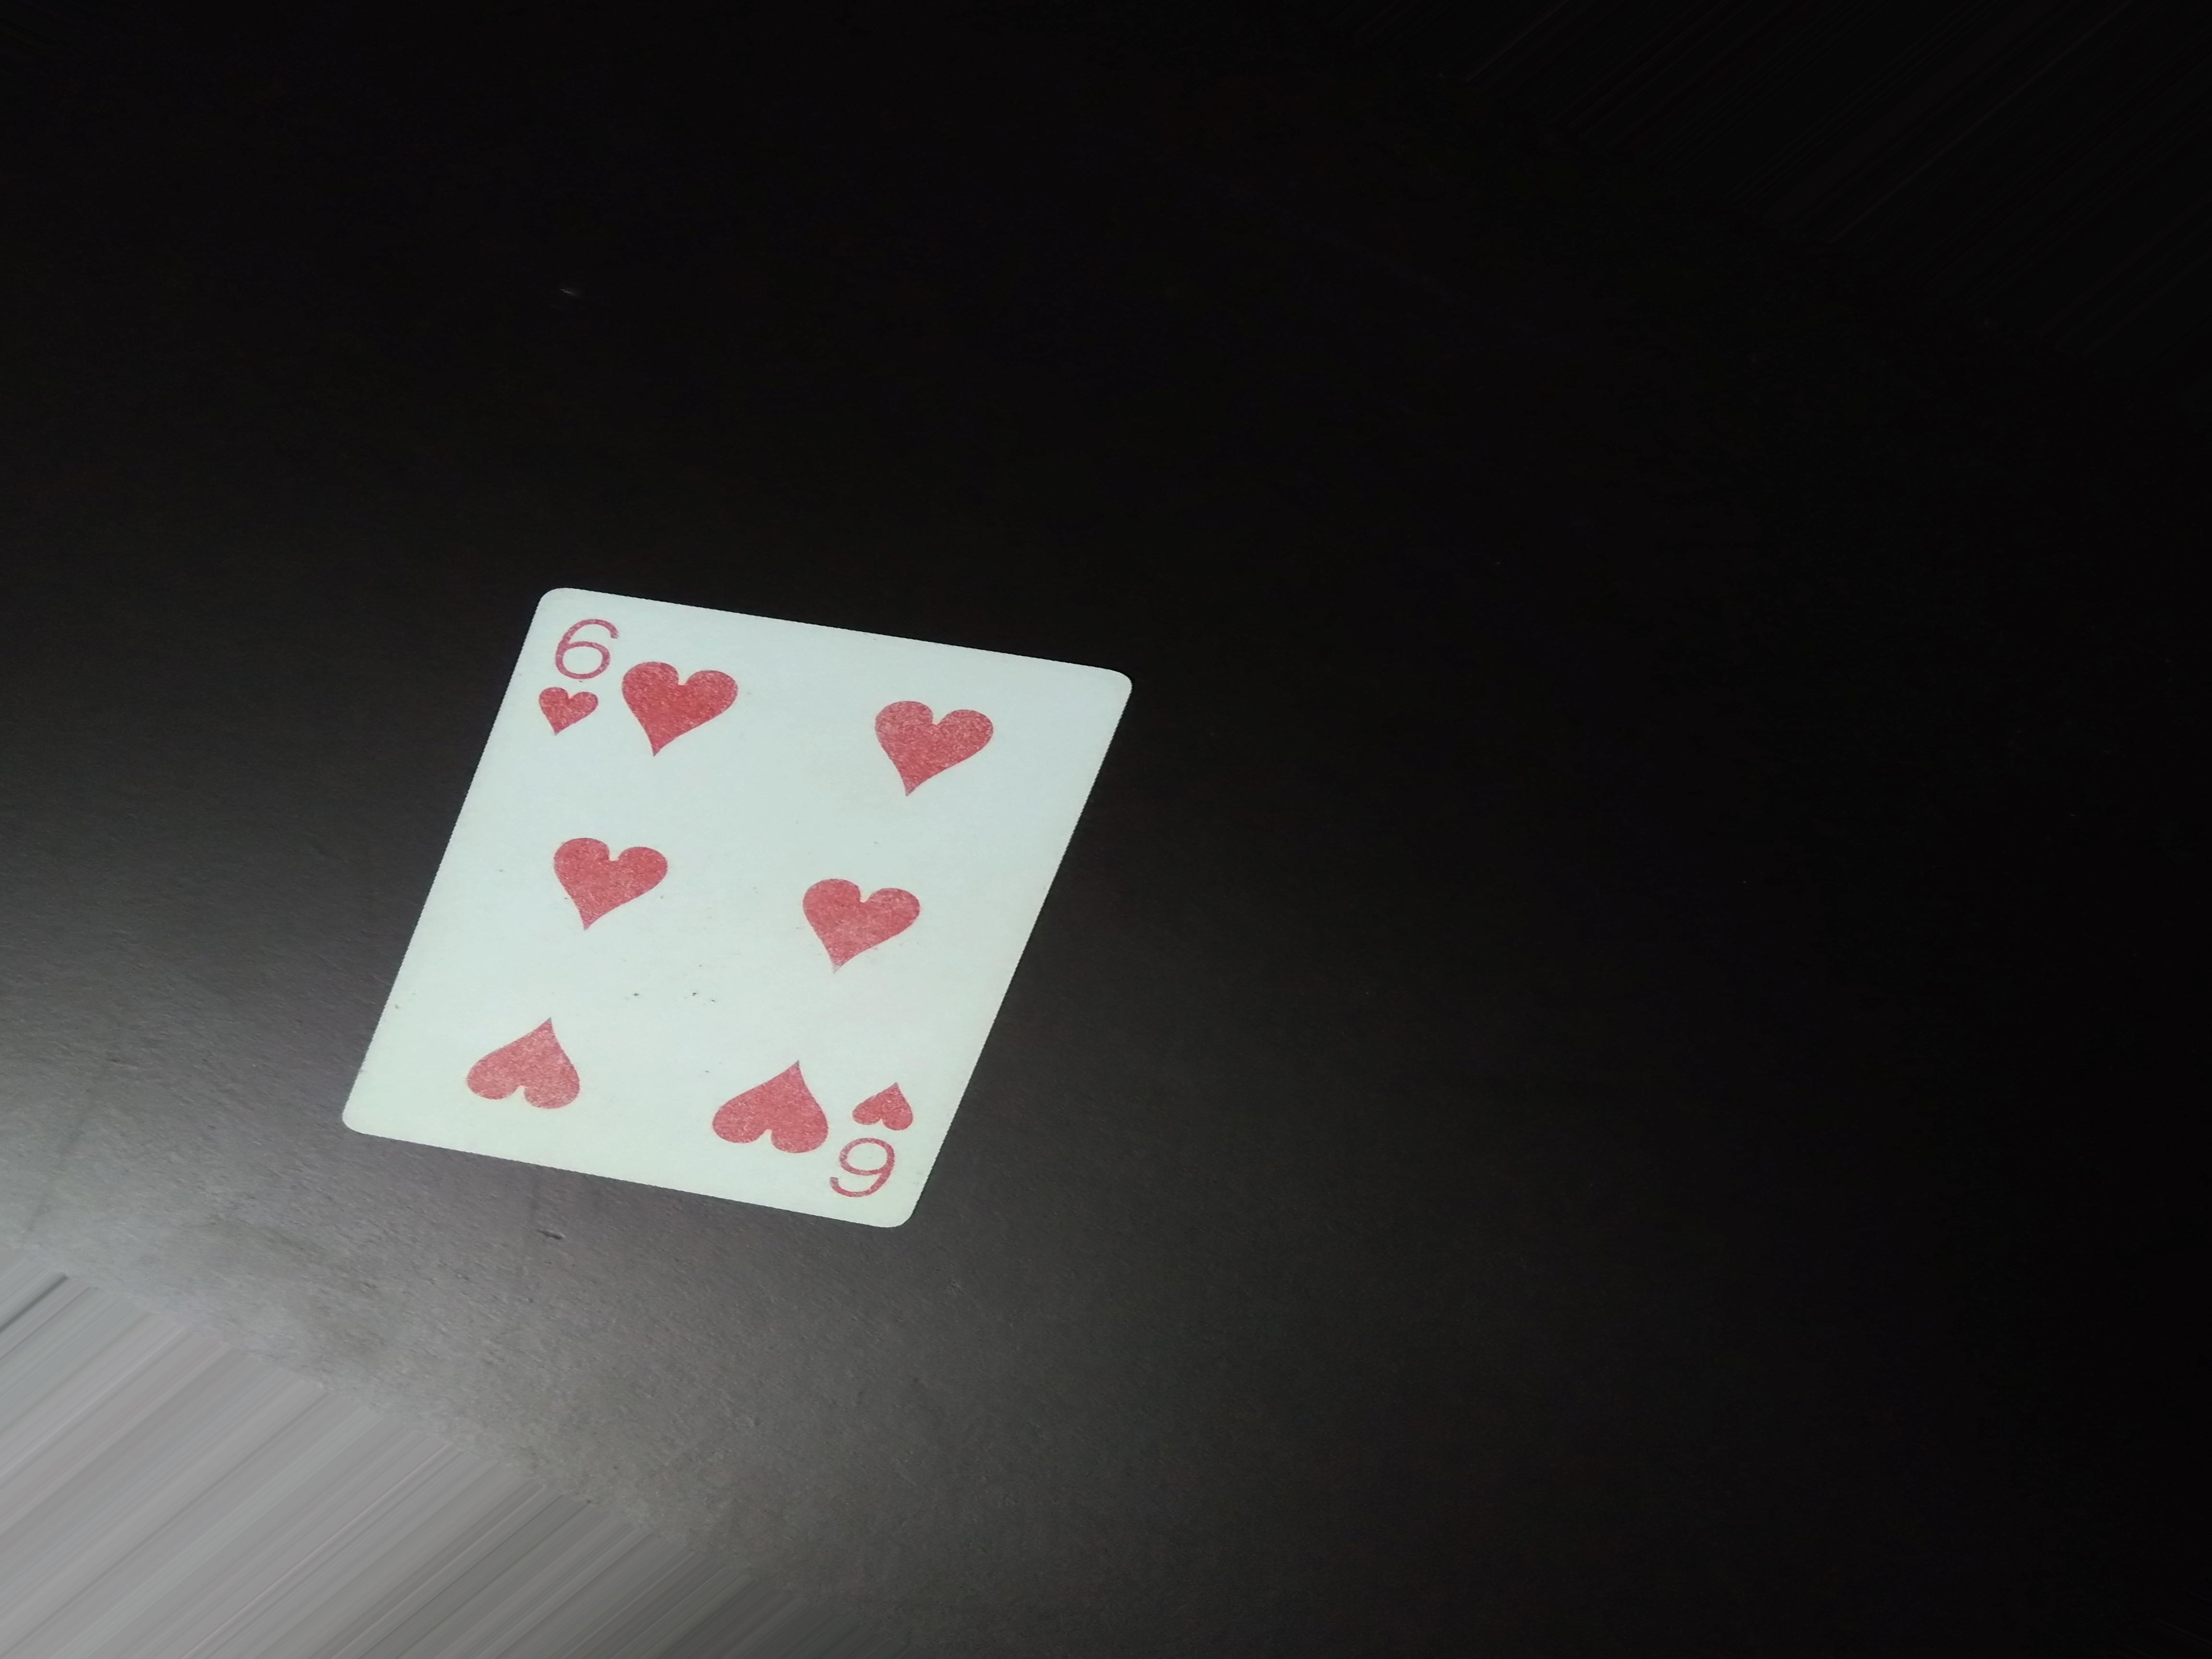6H: (523, 586, 646, 742)
